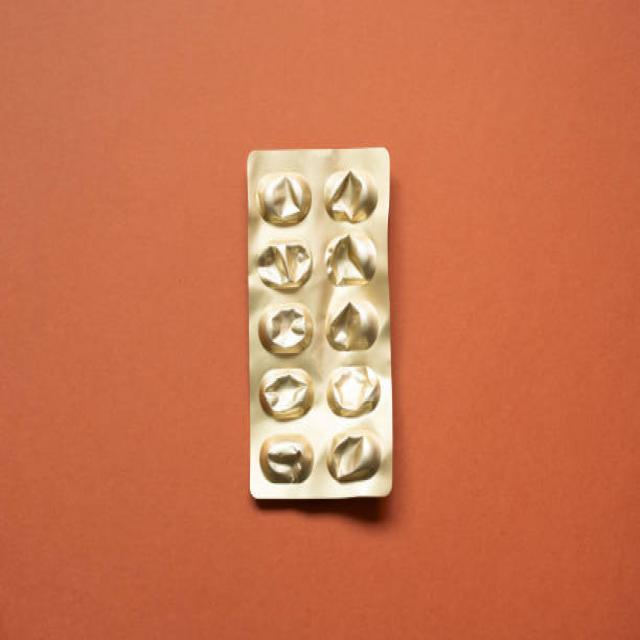Empty: (320, 161, 382, 235), (324, 426, 394, 491), (321, 291, 382, 361), (255, 425, 319, 491), (252, 361, 318, 425), (256, 162, 314, 234), (256, 295, 316, 361), (318, 234, 387, 291), (323, 361, 387, 422), (252, 240, 317, 294)
